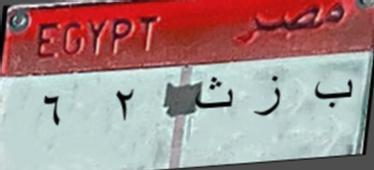2: (106, 84, 148, 127)
6: (38, 87, 69, 132)
baa: (305, 70, 358, 115)
thaa: (196, 73, 239, 116)
zay: (251, 71, 289, 123)
